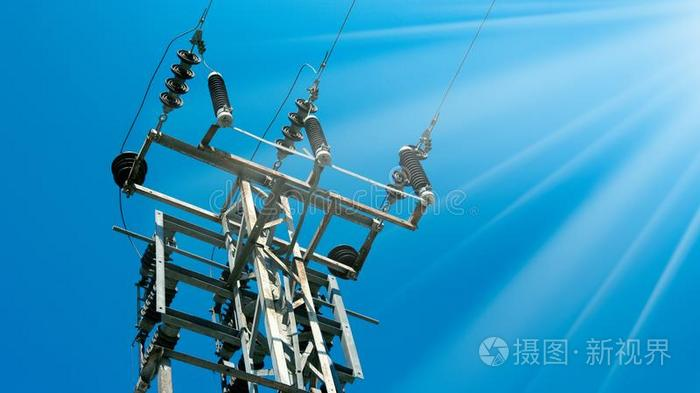insulator: (156, 48, 200, 108), (279, 95, 315, 142)
